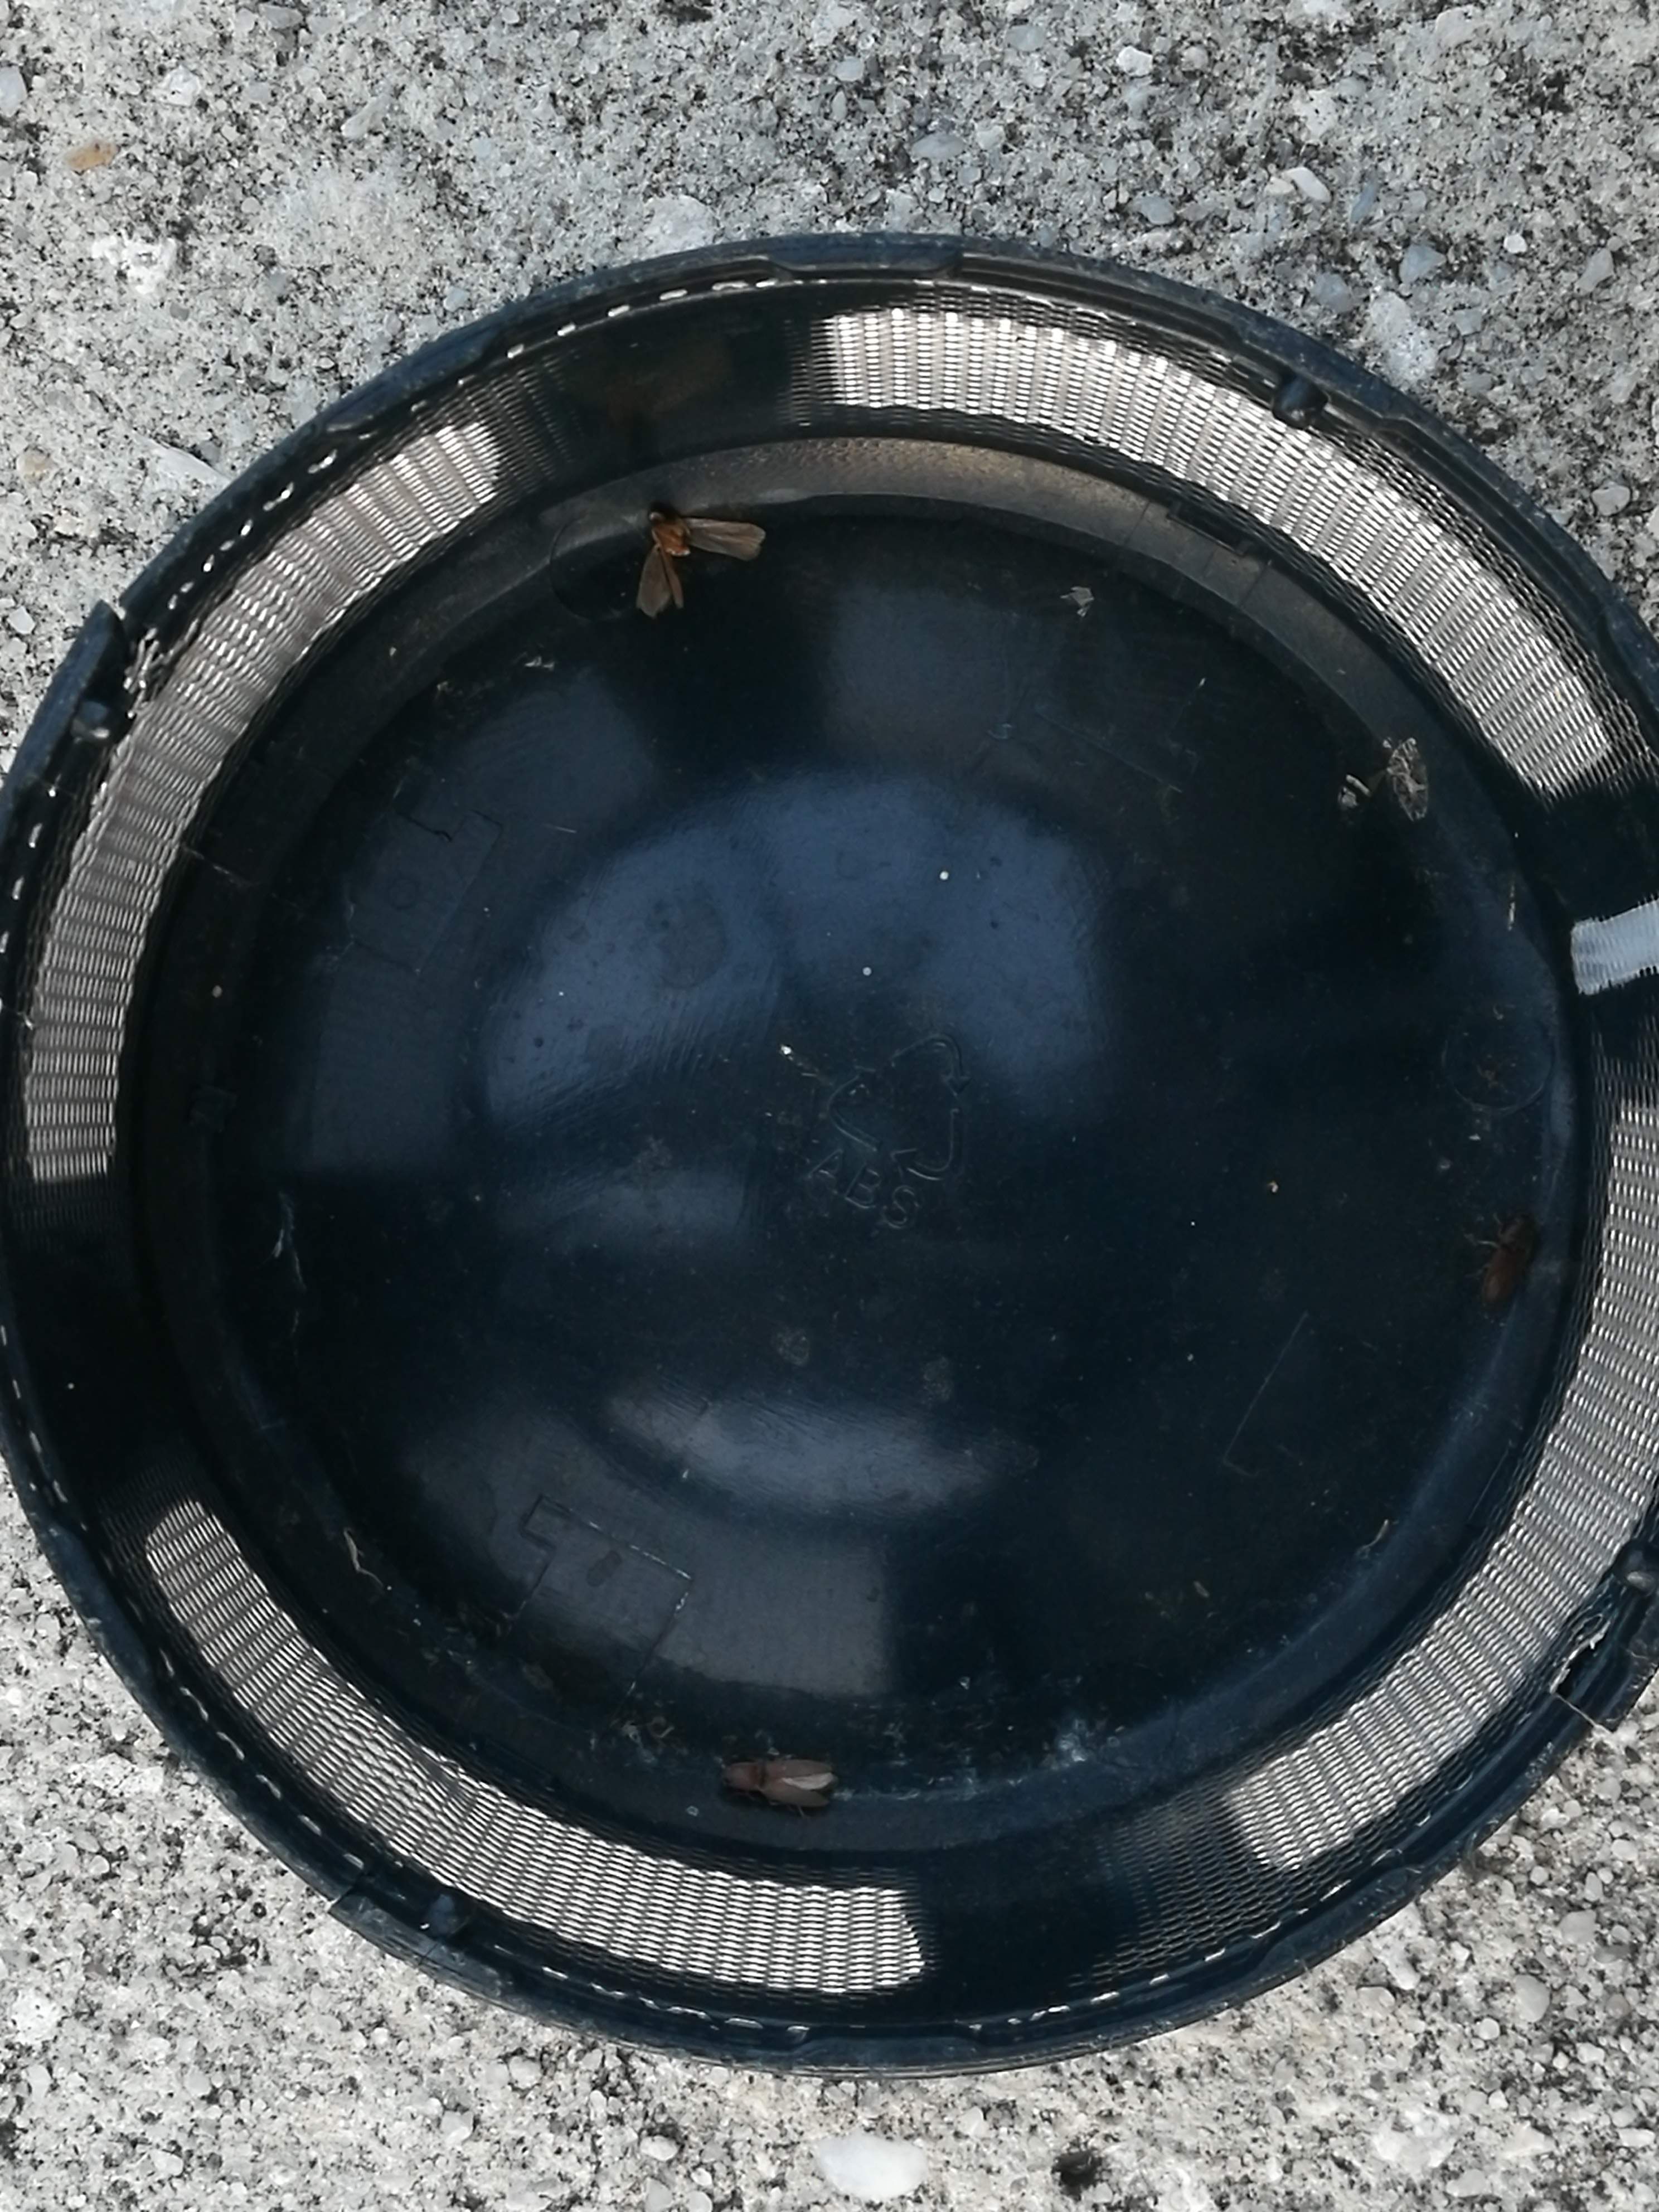mosquito: (720, 1757, 835, 1811), (1481, 1223, 1544, 1303)
moth: (640, 510, 762, 618)
